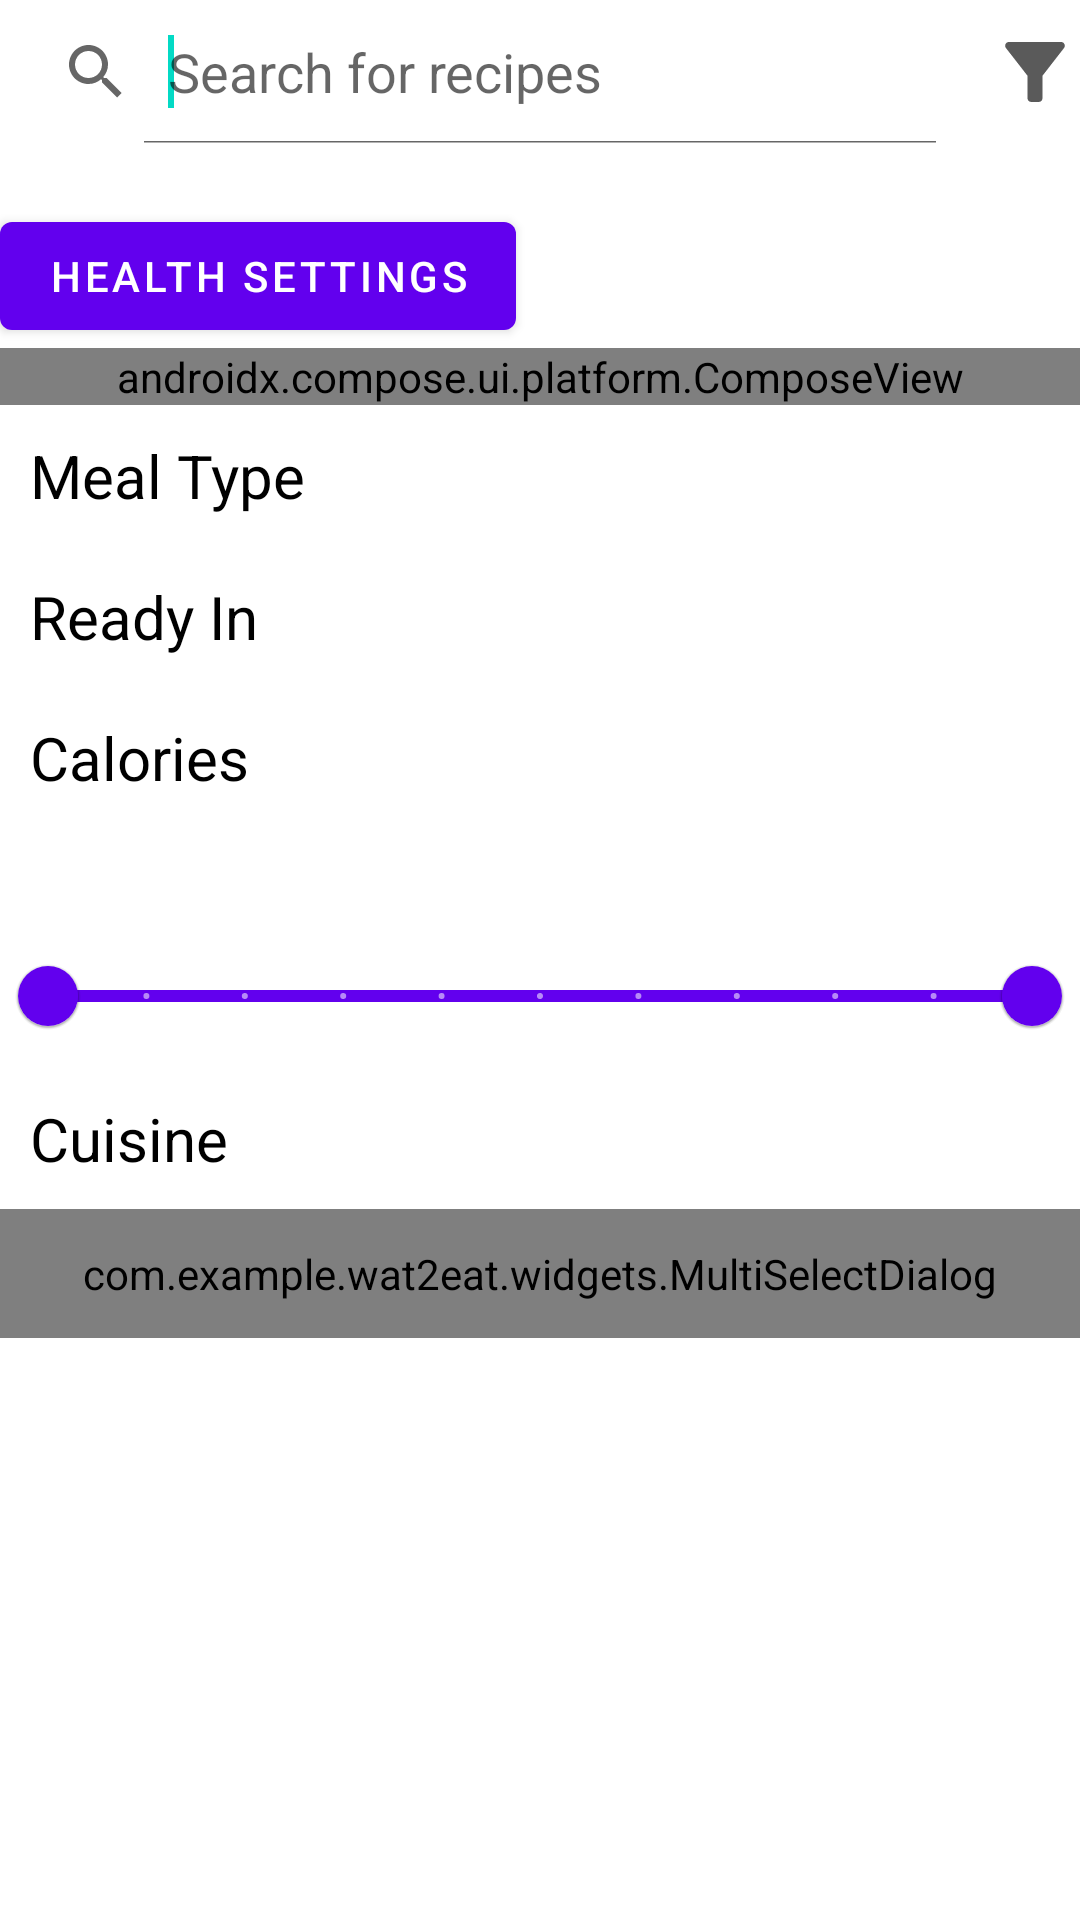

Icon bounding boxes for this 1080 x 1920 phone screenshot, format box=[x1, y1, x2, y2]:
filter: box=[1005, 42, 1065, 102]
